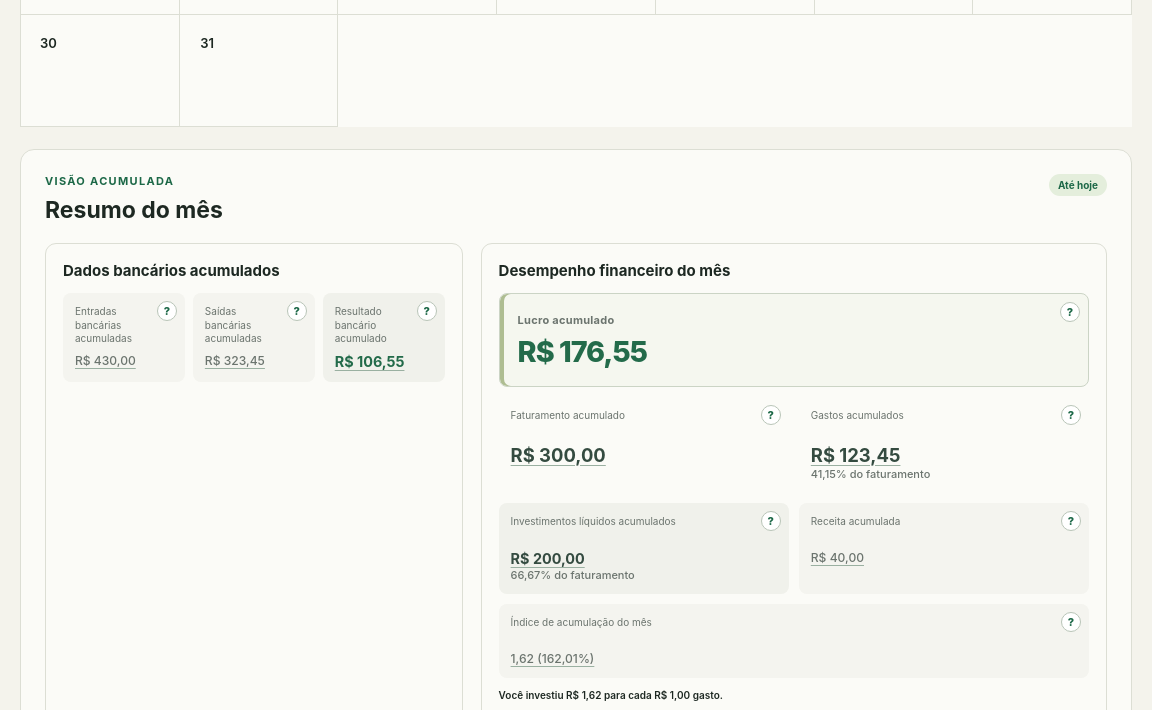
Test case: detalhamento dos indicadores acumulados › detalha entradas e saídas somente pelo tipo bancário, independentemente da classificação
(page scrolled)
Click the button "R$ 430,00".
click(105, 360)  # box [71,348,140,372]
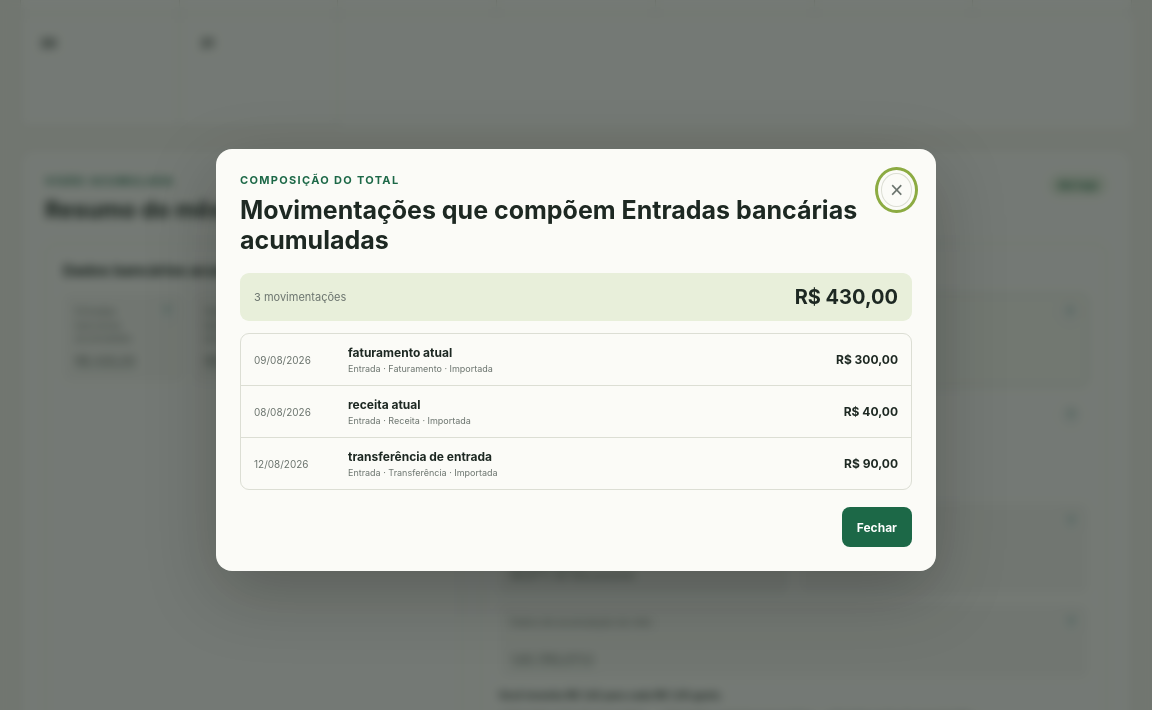
Result: the dialog shows "Movimentações que compõem Entradas bancárias acumuladas" at [240,195,857,255]
Result: the dialog shows "faturamento atual" at [348,345,452,360]
Result: the dialog shows "receita atual" at [348,397,420,412]
Click the button "Fechar".
click(877, 527)  # box [842,507,912,547]
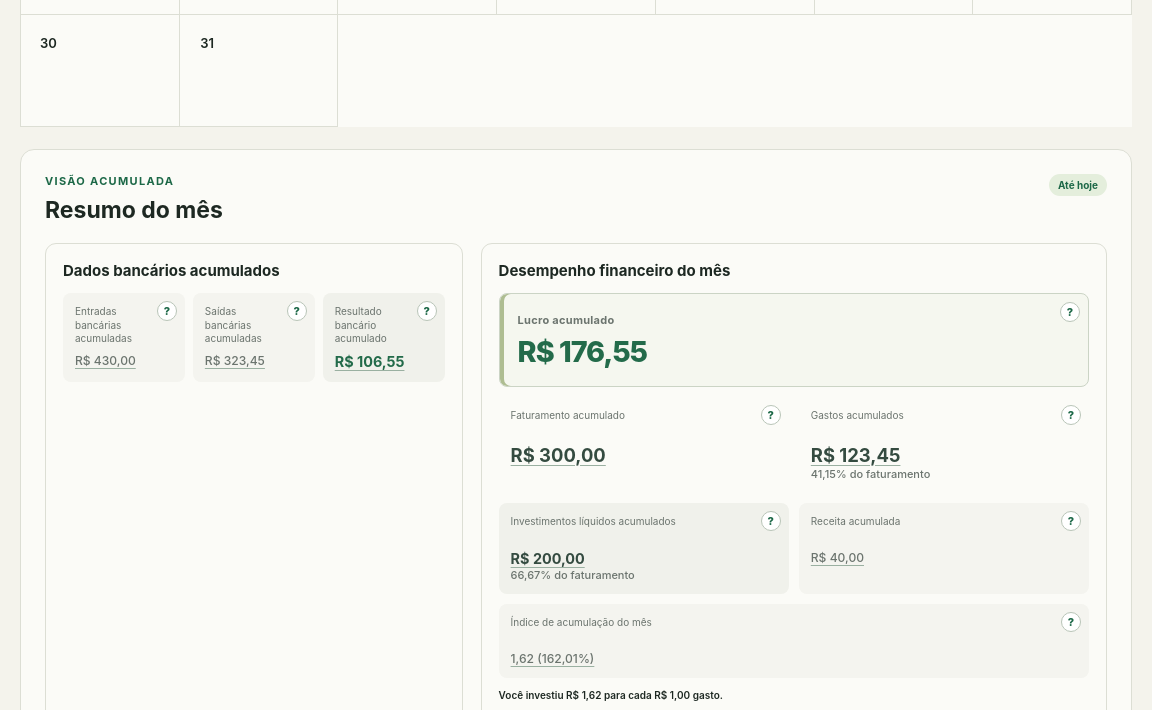
Click the button "R$ 323,45".
click(235, 360)  # box [201,348,269,372]
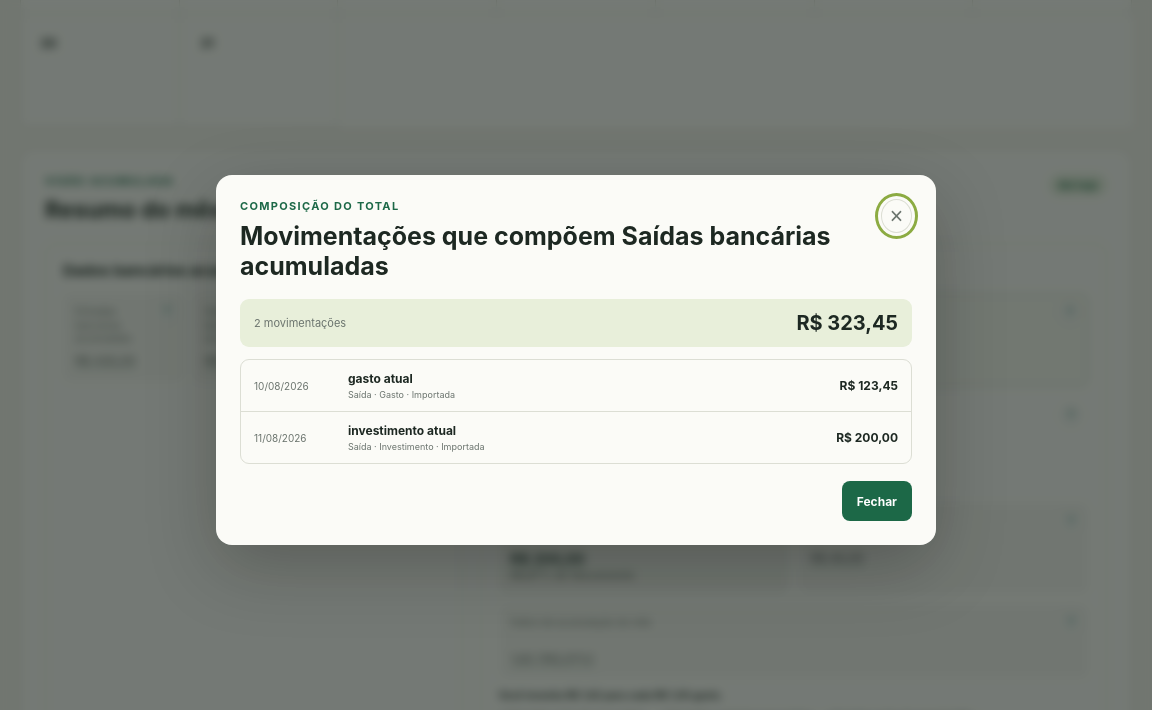
Result: the dialog shows "Movimentações que compõem Saídas bancárias acumuladas" at [240,221,831,281]
Result: the dialog shows "gasto atual" at [348,371,413,386]
Result: the dialog shows "investimento atual" at [348,423,456,438]
